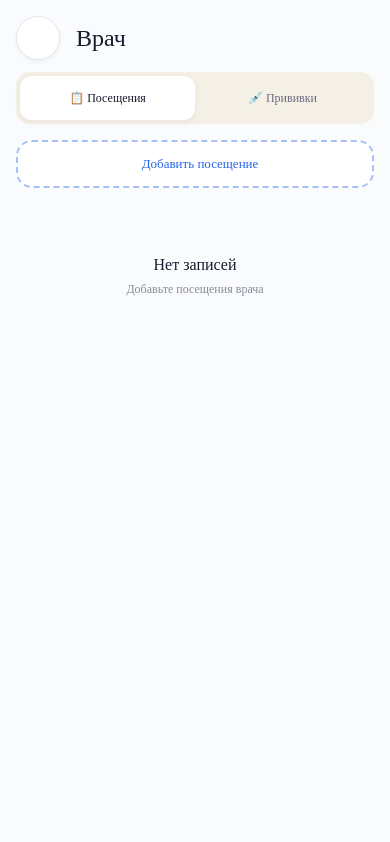
DoctorScreen › switches to vaccines tab
The width and height of the screenshot is (390, 842).
Click the text "💉 Прививки". click: [283, 98]
box: [248,90,317,106]
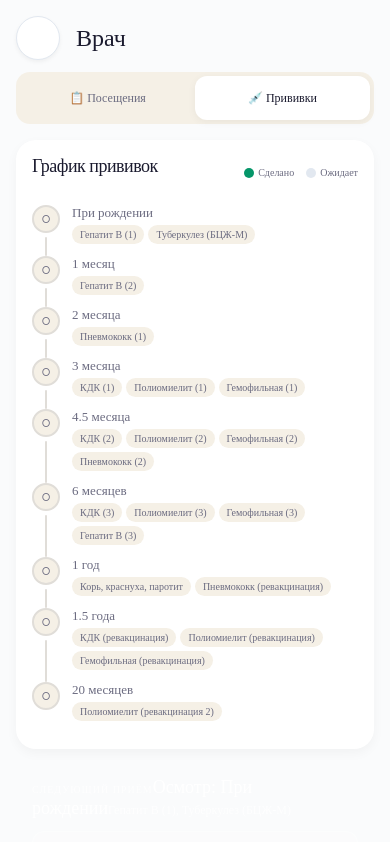
Now the text "График прививок" is shown, box [32,156,158,177]
Now the text "При рождении" is shown, box [72,205,153,221]
